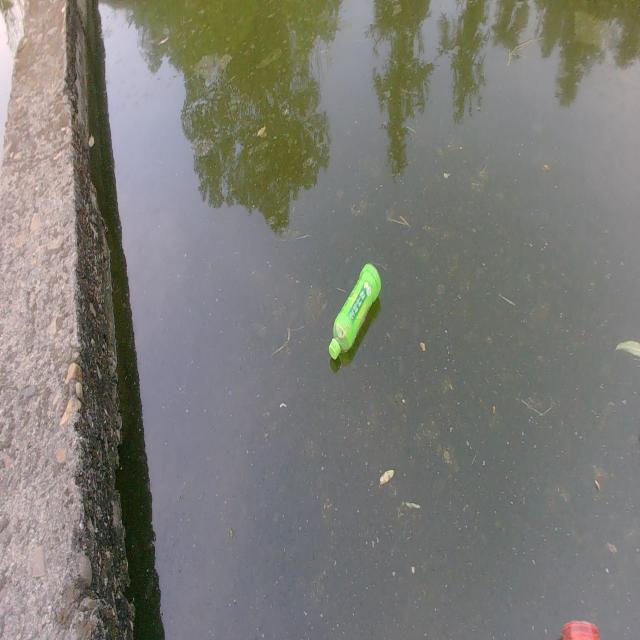bottle: (322, 245, 394, 368)
